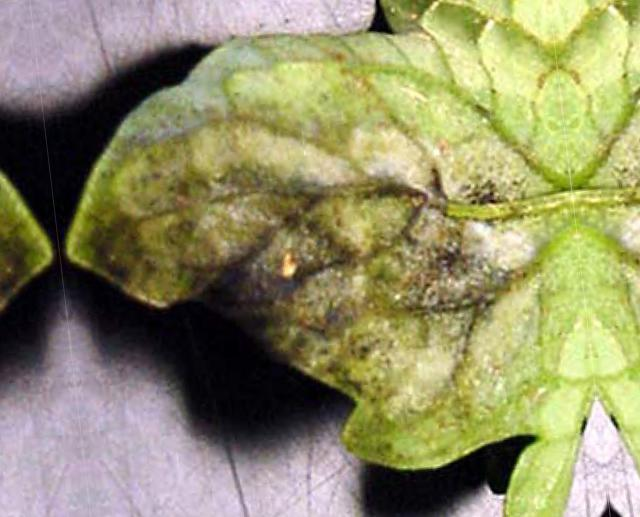Tomato leaf late blight: (38, 0, 603, 517)
